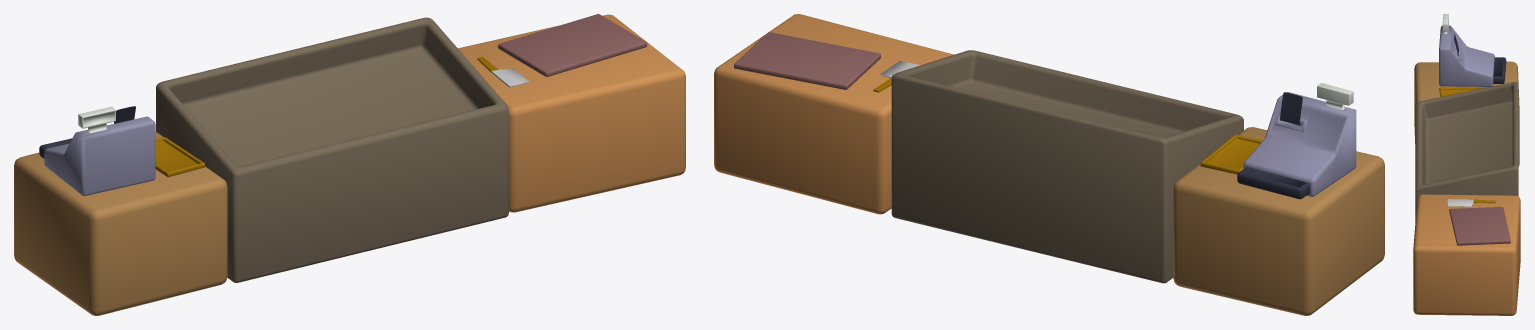
Rendered from Collection_DevantFishStall.fbx.
The picture shows the model from 3 angles, left to right: view 1: azimuth 30°, elevation 25°; view 2: azimuth 150°, elevation 25°; view 3: azimuth 270°, elevation 25°; orthographic projection. The views are drawn at different scales.
Parts seen in each view (by area): view 1: DevantFishStall_LOD0; view 2: DevantFishStall_LOD0; view 3: DevantFishStall_LOD0.
Boxes of the visible parts, x1=… form: DevantFishStall_LOD0: x1=14, y1=14, x2=685, y2=315; DevantFishStall_LOD0: x1=714, y1=14, x2=1384, y2=315; DevantFishStall_LOD0: x1=1413, y1=14, x2=1520, y2=315.
Bounding box in the file's own units: 866 × 253 × 208.
